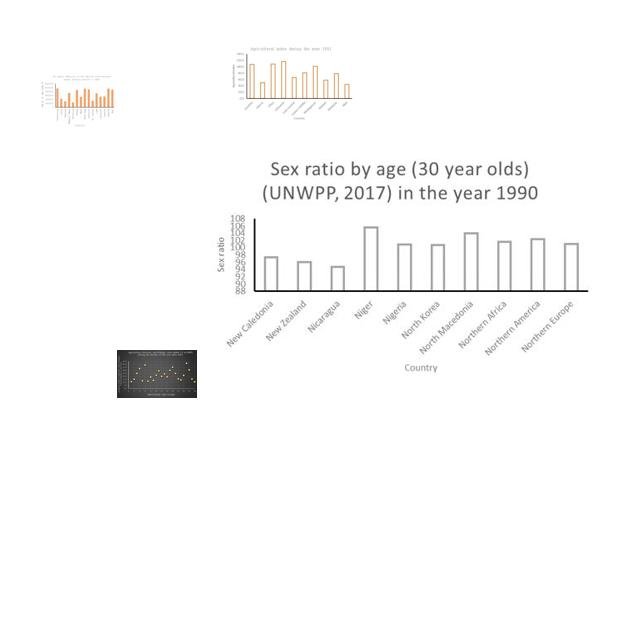Graph: (205, 152, 594, 377), (228, 45, 355, 120), (39, 74, 116, 128), (117, 350, 197, 398)
